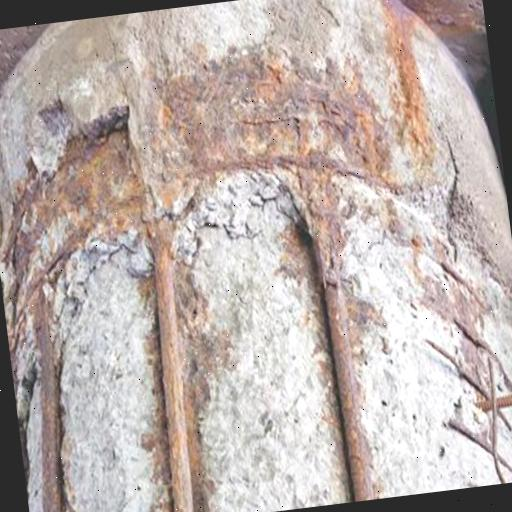spalling: (0, 63, 512, 512)
